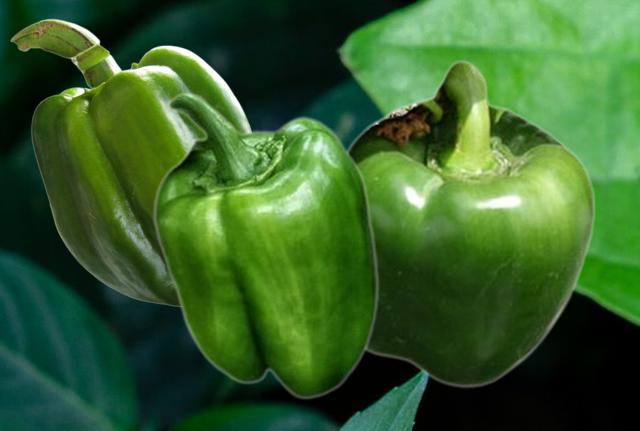bell_pepper: (347, 59, 595, 388), (152, 91, 379, 399), (10, 18, 251, 308)
